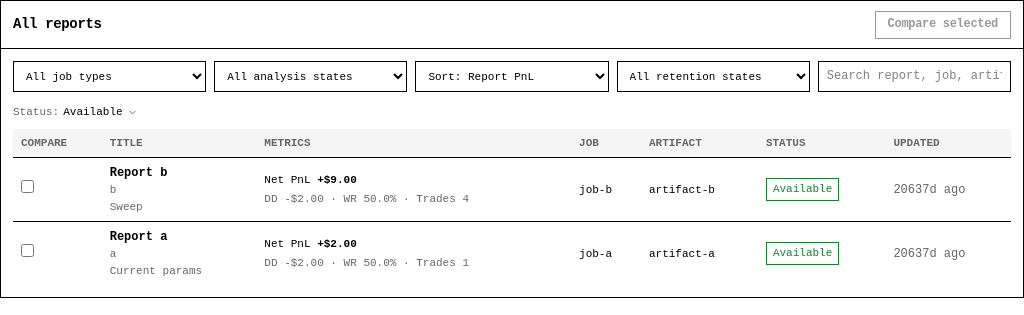
Scenario: ResearchReportsPage › filters by job type and analysis availability
The image size is (1024, 315).
Select "Sweep" in the dropdown named "report job type filter" at (110, 77), box [13,61,206,92]
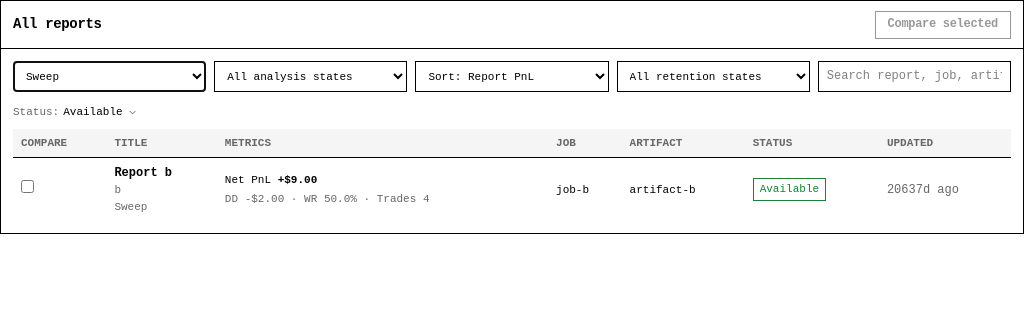
Check: the link "Report b" is shown, box [114,166,172,180]
Check: the link "Report a" is gone
Select "Missing analysis" in the dropdown named "report analysis filter" at (311, 77), box [214,61,407,92]
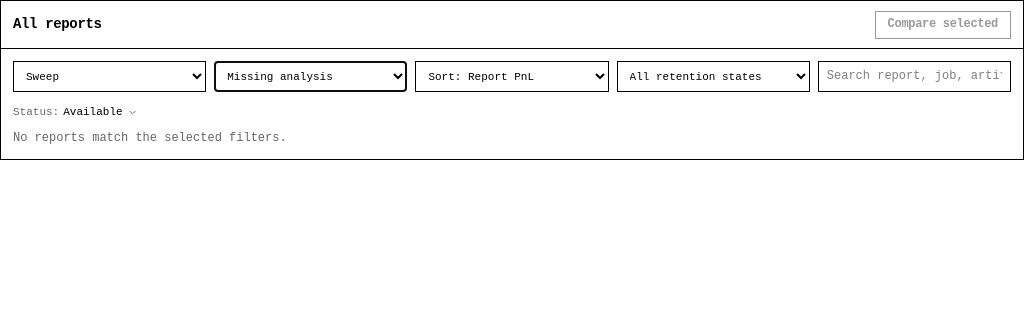
Check: the text "No reports match the selected filters." is shown, box [13,131,287,145]
